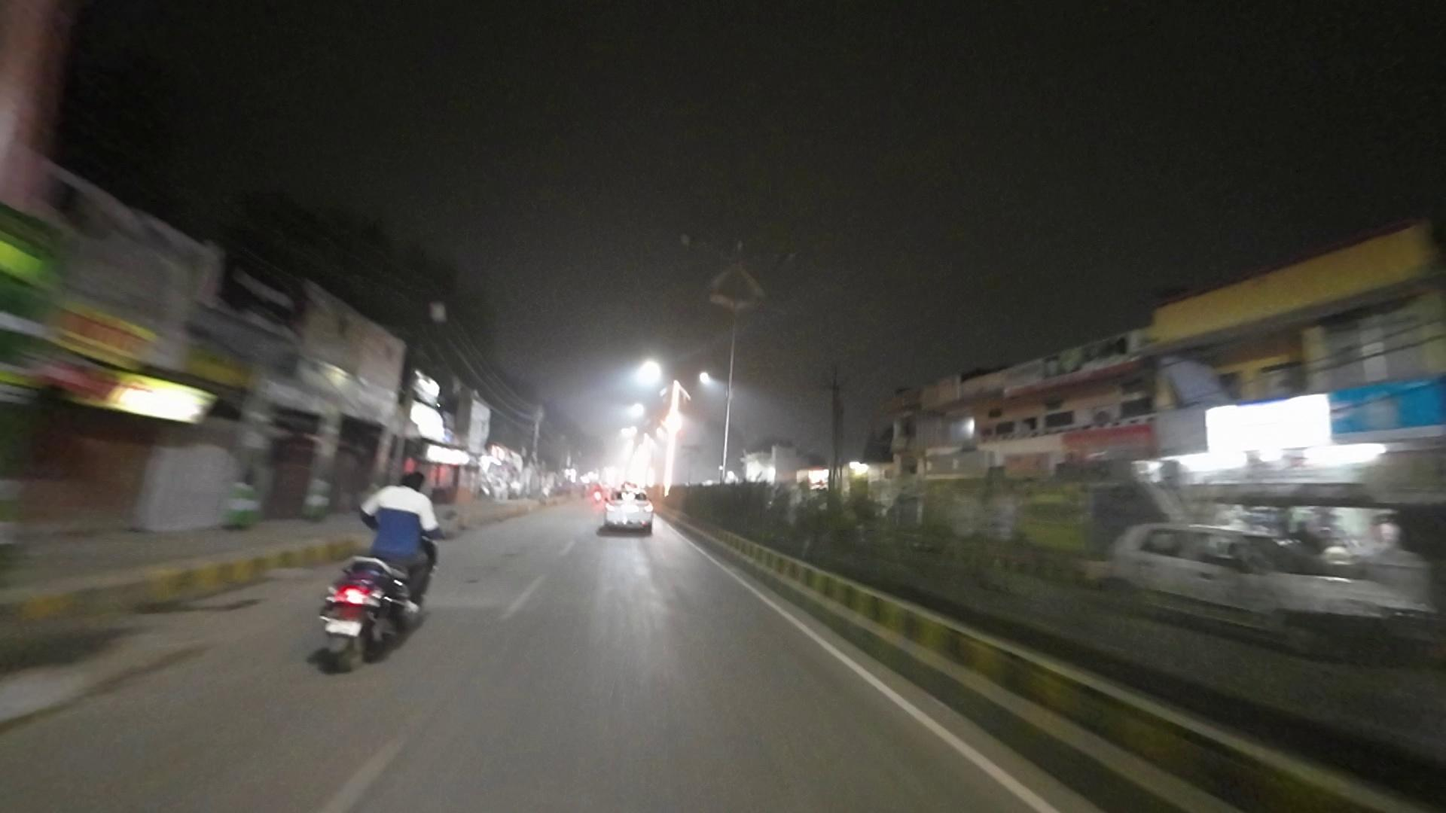streetlight: (681, 226, 731, 265), (743, 246, 806, 274)
